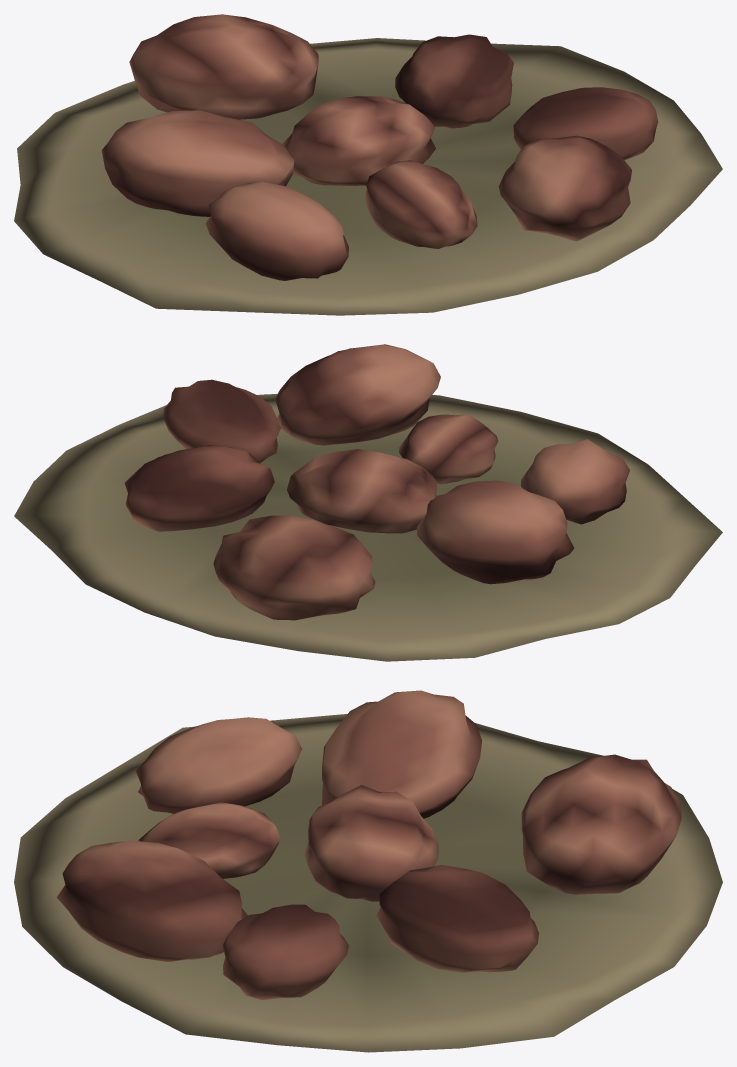
Rendered from Attenborites.fbx.
3 renders of one model, top to bottom at view 1: azimuth 30°, elevation 25°; view 2: azimuth 150°, elevation 25°; view 3: azimuth 270°, elevation 25°, orthographic. The views are drawn at different scales.
Parts seen in each view (by area): view 1: Attenborites; view 2: Attenborites; view 3: Attenborites.
Boxes of the visible parts, bbox=[...] form: Attenborites: bbox=[14, 14, 722, 315]; Attenborites: bbox=[14, 344, 722, 661]; Attenborites: bbox=[14, 690, 722, 1052].
Bounding box in the file's own units: 1.4 × 0.1794 × 1.23.
